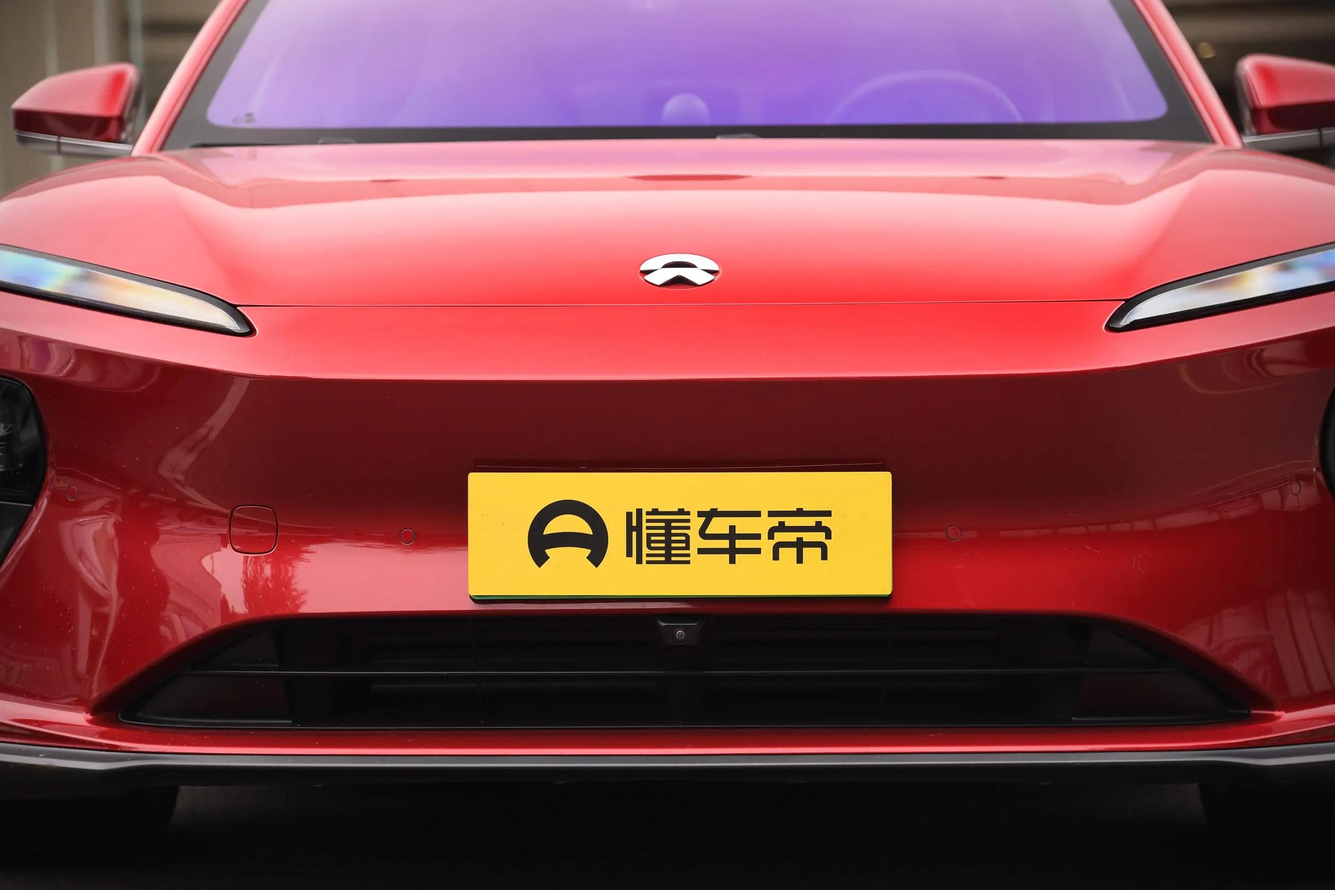NIO: (639, 253, 719, 286)
